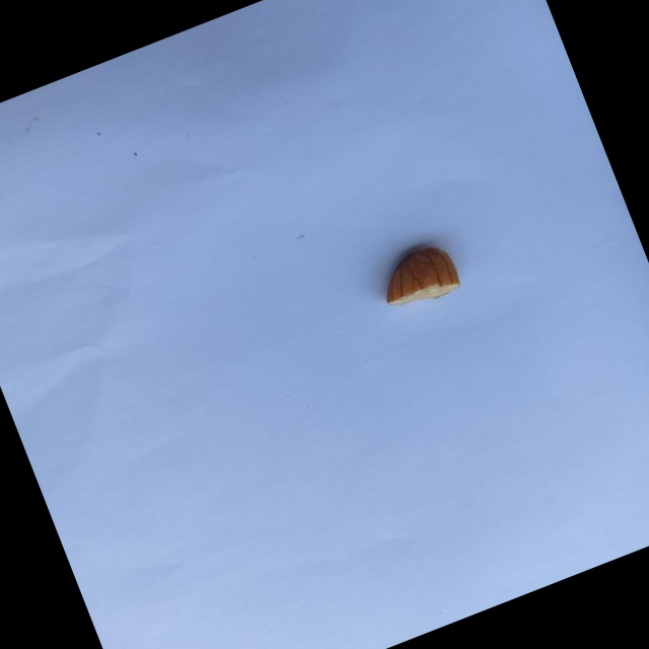grade4: (363, 230, 472, 323)
